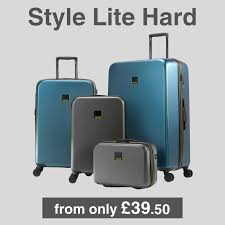suitcase: (106, 34, 192, 183), (33, 57, 98, 176), (67, 95, 126, 182)
